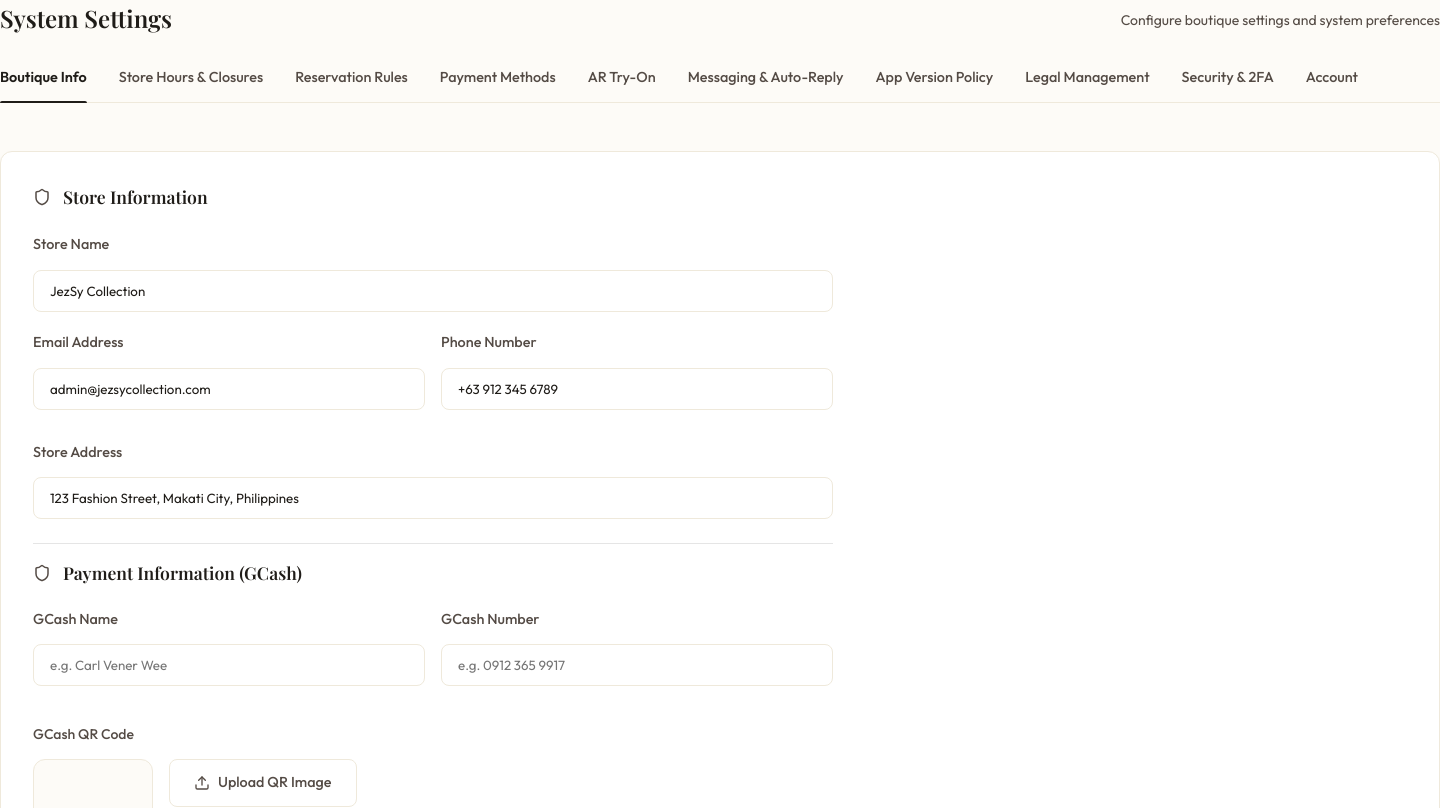
Scenario: Settings Closures Confirmation Dialog › confirming Remove closure executes deletion and closes modal
This screenshot has width=1440, height=808.
Click the button "Store Hours & Closures": (191, 85) [119,68,263,102]
(page scrolled)
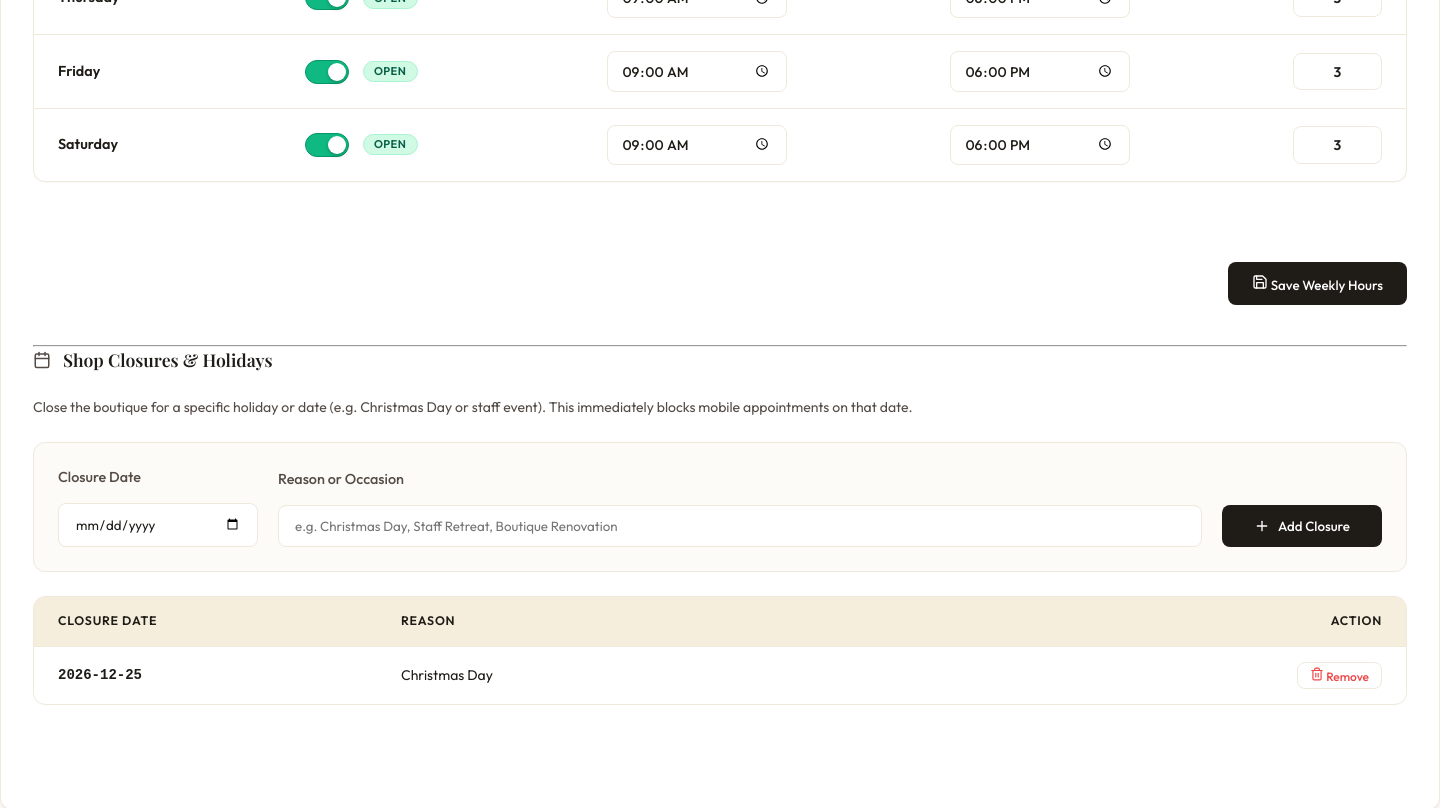
expect the text "2026-12-25" is shown: met, box [34,647,377,704]
Click the button "Remove": (1339, 676) [1297,662,1382,689]
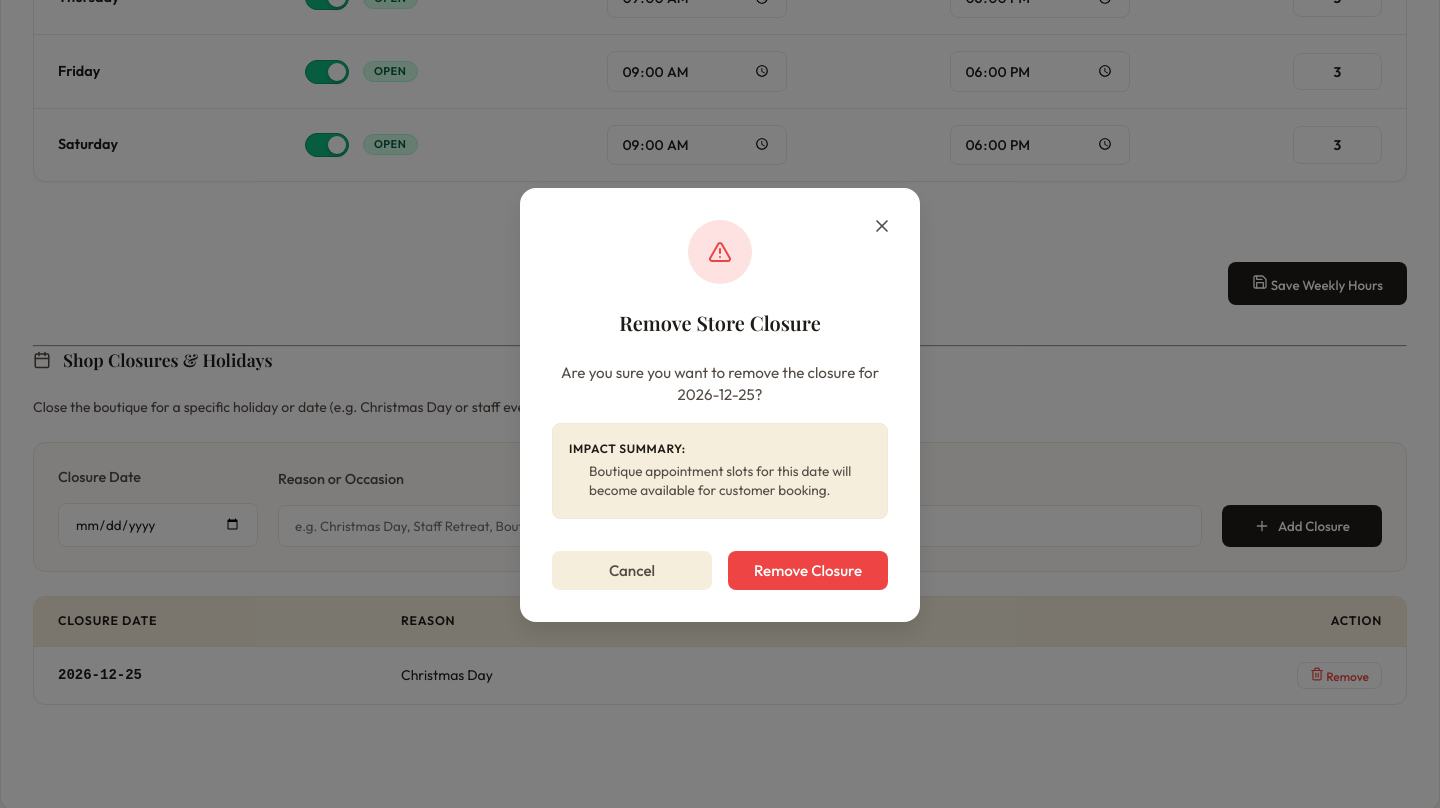
expect the dialog is shown: met, box [520,188,920,622]
Confirm the deletion
Click the button "Remove Closure": (808, 571) [728,551,888,590]
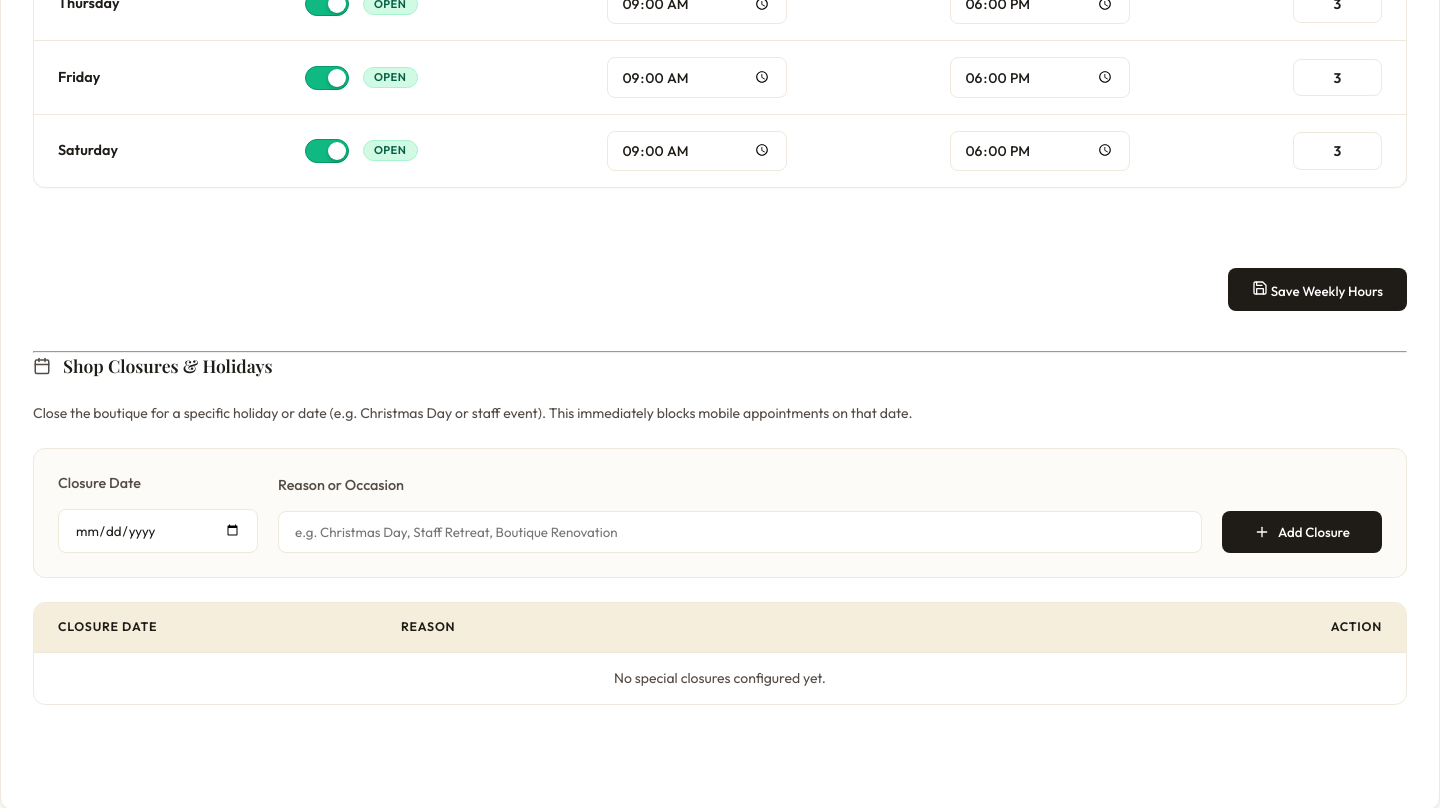
expect the dialog is gone: met
